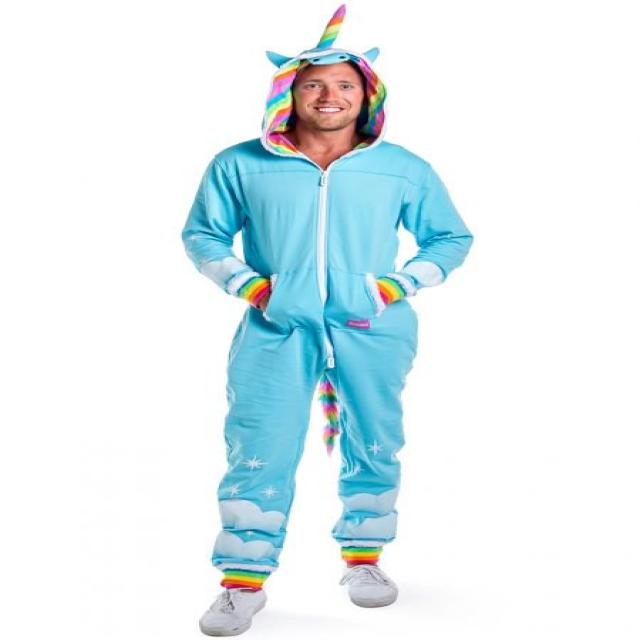mobile_phonerotation: (179, 4, 475, 635)
